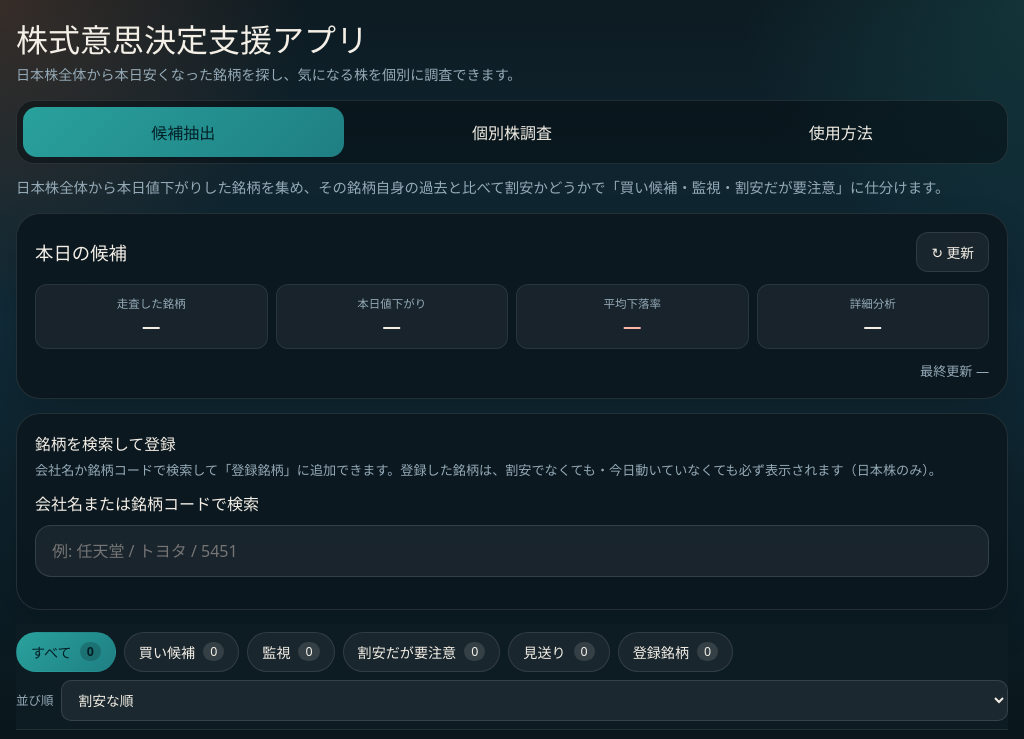
Scenario: App › 保存済み結果があってもタイトルは固定表示のまま
Click the tab "個別株調査": (512, 132) [352,107,672,157]
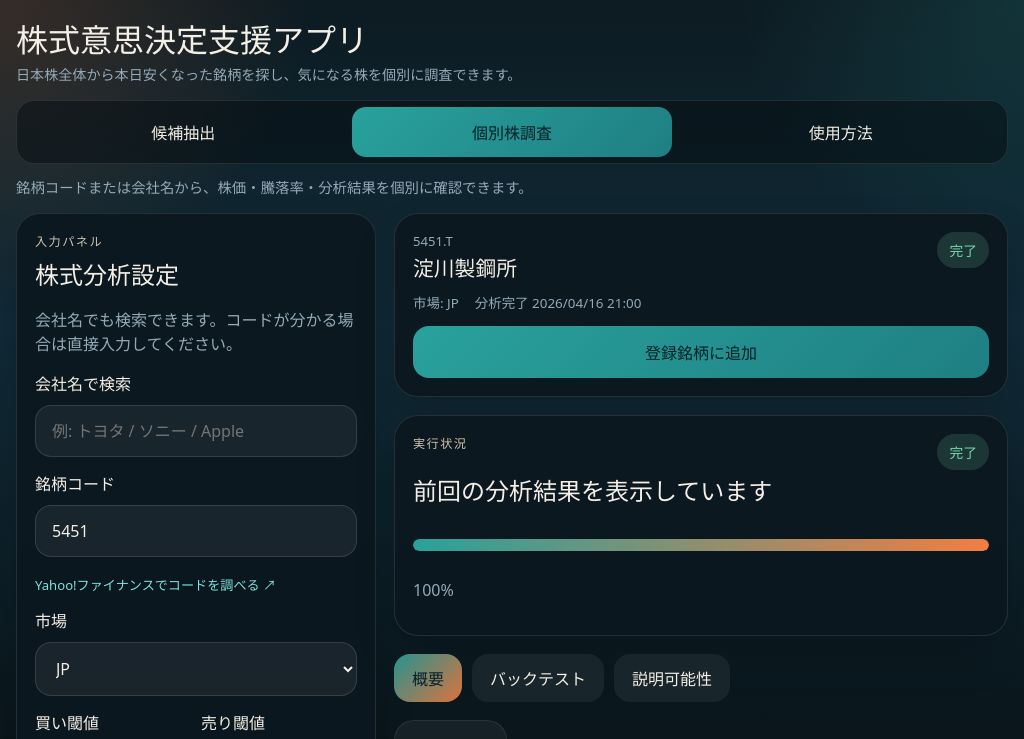
Expected: the heading "株式意思決定支援アプリ" is shown, [16,18,368,61]
Expected: the field showing "5451" is shown, [35,505,357,557]
Expected: the dropdown showing "JP" is shown, [35,642,357,696]
